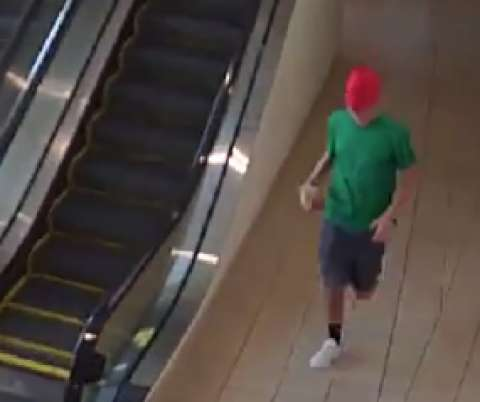Person: (292, 63, 420, 382)
